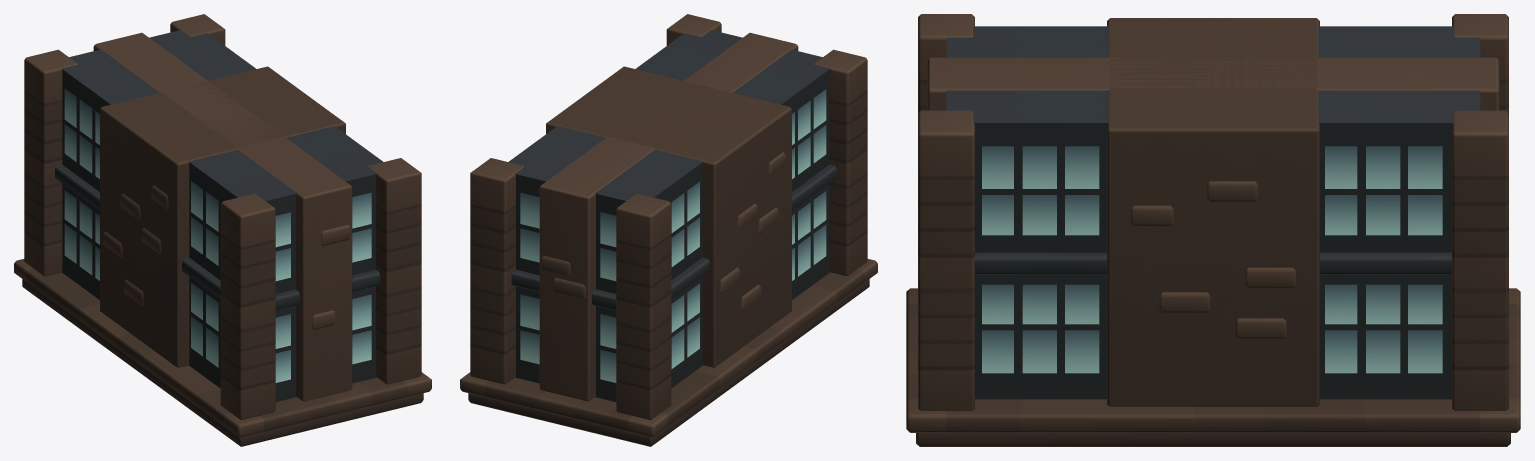
File: office_building_type2_double_floor_brown.fbx
3 renders of one model, left to right at view 1: azimuth 30°, elevation 25°; view 2: azimuth 150°, elevation 25°; view 3: azimuth 270°, elevation 25°, orthographic. The views are drawn at different scales.
Visible parts, largest first — view 1: office_building_type2_double_floor_brown; view 2: office_building_type2_double_floor_brown; view 3: office_building_type2_double_floor_brown.
Part boxes in pixels (<box>): office_building_type2_double_floor_brown: <box>14,14,431,446</box>; office_building_type2_double_floor_brown: <box>460,14,877,446</box>; office_building_type2_double_floor_brown: <box>906,14,1520,446</box>.
Bounding box in the file's own units: 800 × 909 × 1610.
